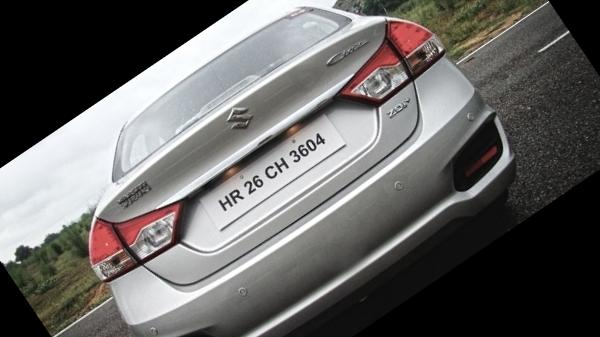plate: (186, 104, 355, 241)
